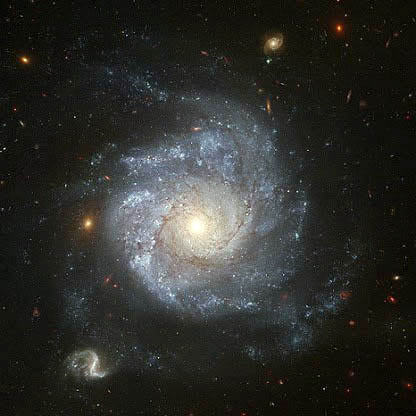NGC 1309: (11, 24, 354, 386)
